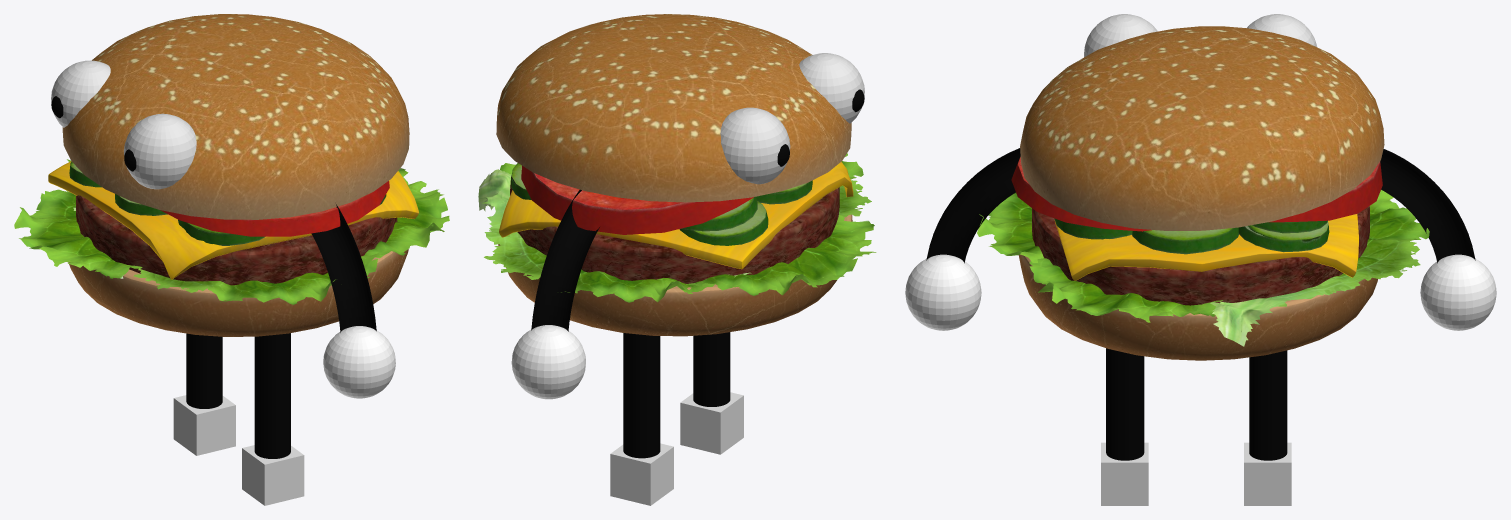
The model's file is Mr. Borgor.fbx.
3 renders of one model, left to right at view 1: azimuth 30°, elevation 25°; view 2: azimuth 150°, elevation 25°; view 3: azimuth 270°, elevation 25°, orthographic. The views are drawn at different scales.
Visible parts, largest first — view 1: bun, vegeis, RightArm.002, pPlane16, Sphere.001, EyeballLeft, Cylinder.001, pPlane17, Cube, Cube.001, RightArm.001, pPlane14 (+1 smaller); view 2: bun, vegeis, pPlane15, pPlane16, RightArm.001, Sphere, RightArm, EyeballRight, Cube, Cube.001, RightArm.002, EyeballLeft (+1 smaller); view 3: bun, vegeis, pPlane15, Sphere, Sphere.001, RightArm, Cylinder.001, RightArm.002, RightArm.001, pPlane14, pPlane17, Cube (+3 smaller).
Boxes of the visible parts, bbox=[...] form: bun: bbox=[48, 14, 418, 336]; vegeis: bbox=[69, 161, 389, 245]; RightArm.002: bbox=[254, 333, 290, 458]; pPlane16: bbox=[14, 189, 142, 278]; Sphere.001: bbox=[323, 326, 395, 398]; EyeballLeft: bbox=[124, 113, 196, 189]; Cylinder.001: bbox=[311, 204, 376, 332]; pPlane17: bbox=[73, 203, 382, 304]; Cube: bbox=[173, 395, 235, 455]; Cube.001: bbox=[242, 445, 304, 505]; RightArm.001: bbox=[186, 333, 222, 408]; pPlane14: bbox=[363, 169, 449, 258]; bun: bbox=[496, 14, 853, 336]; vegeis: bbox=[511, 163, 812, 245]; pPlane15: bbox=[478, 169, 729, 302]; pPlane16: bbox=[683, 215, 876, 295]; RightArm.001: bbox=[623, 333, 660, 458]; Sphere: bbox=[511, 325, 585, 399]; RightArm: bbox=[531, 189, 599, 331]; EyeballRight: bbox=[720, 107, 790, 184]; Cube: bbox=[610, 443, 673, 505]; Cube.001: bbox=[680, 392, 743, 454]; RightArm.002: bbox=[693, 332, 730, 406]; EyeballLeft: bbox=[799, 53, 864, 123]; bun: bbox=[1018, 26, 1384, 360]; vegeis: bbox=[1011, 157, 1382, 254]; pPlane15: bbox=[1210, 190, 1429, 346]; Sphere: bbox=[1420, 254, 1496, 330]; Sphere.001: bbox=[905, 254, 981, 330]; RightArm: bbox=[1380, 149, 1475, 263]; Cylinder.001: bbox=[926, 148, 1020, 263]; RightArm.002: bbox=[1106, 348, 1144, 460]; RightArm.001: bbox=[1249, 350, 1287, 460]; pPlane14: bbox=[1029, 257, 1222, 322]; pPlane17: bbox=[977, 192, 1043, 262]; Cube: bbox=[1244, 442, 1291, 505].
Bounding box in the file's own units: 470 × 502 × 620.
